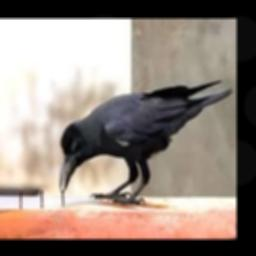Crow: (60, 78, 234, 205)
